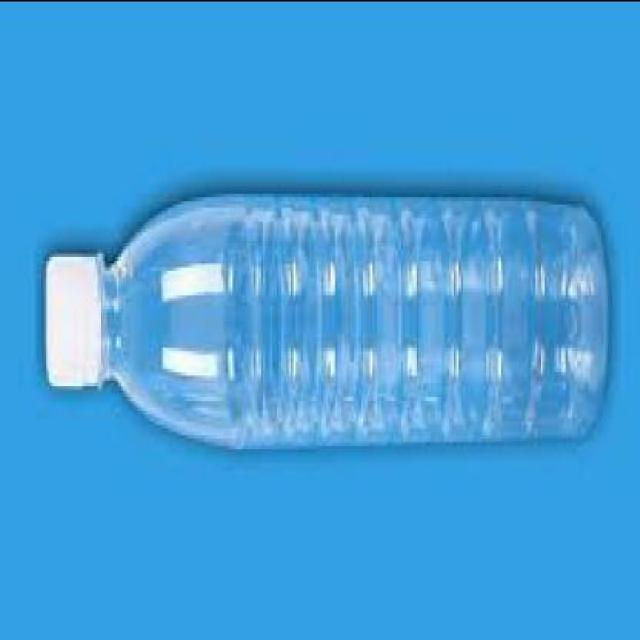PLASTIC: (42, 199, 610, 455), (42, 256, 104, 392)
